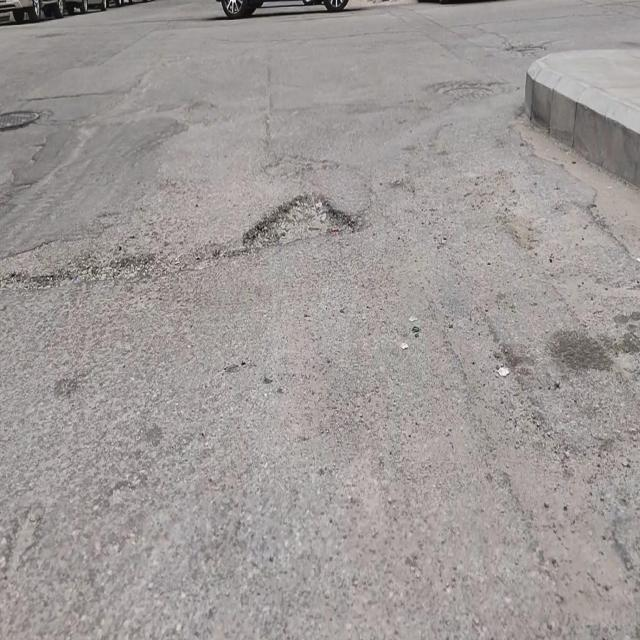Potholes: (239, 185, 360, 256)
